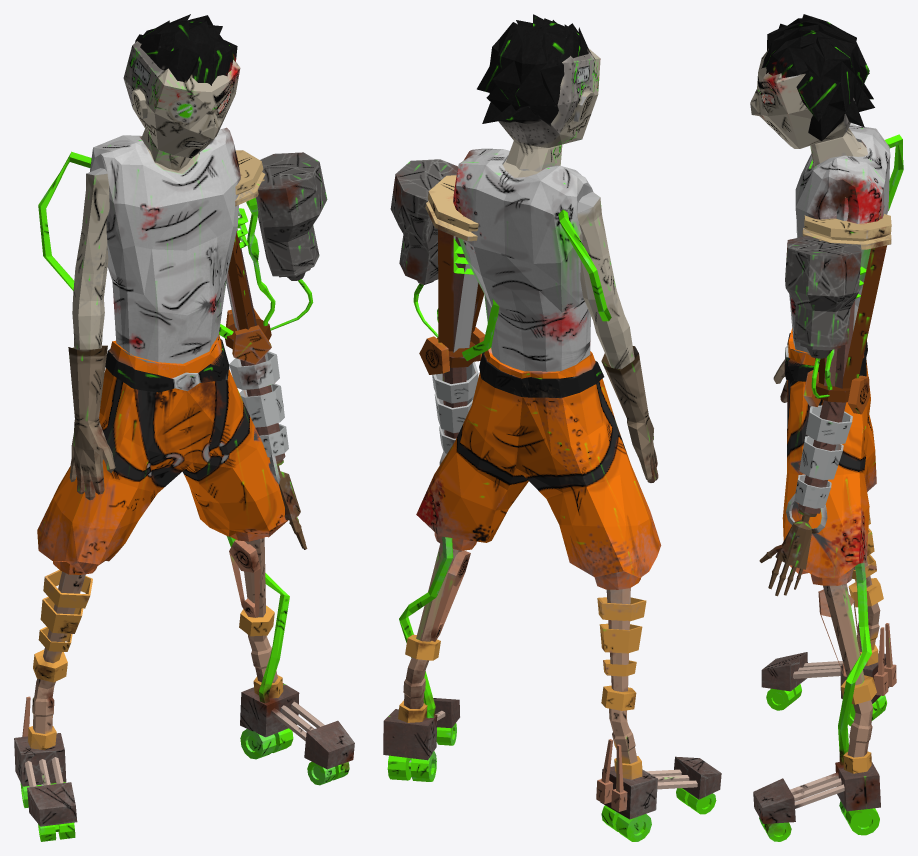
The model's file is CyborgFINALAnimation_000036.obj.
3 views of the same model, side by side, from view 1: azimuth 30°, elevation 25°; view 2: azimuth 150°, elevation 25°; view 3: azimuth 270°, elevation 25° (orthographic). The views are drawn at different scales.
Visible parts, largest first — view 1: CyborgMesh_Cube.002; view 2: CyborgMesh_Cube.002; view 3: CyborgMesh_Cube.002.
Boxes of the visible parts, <box> form: CyborgMesh_Cube.002: <box>14,14,354,841</box>; CyborgMesh_Cube.002: <box>383,14,721,841</box>; CyborgMesh_Cube.002: <box>750,14,903,841</box>.
Bounding box in the file's own units: 3.99 × 9.62 × 1.77.
